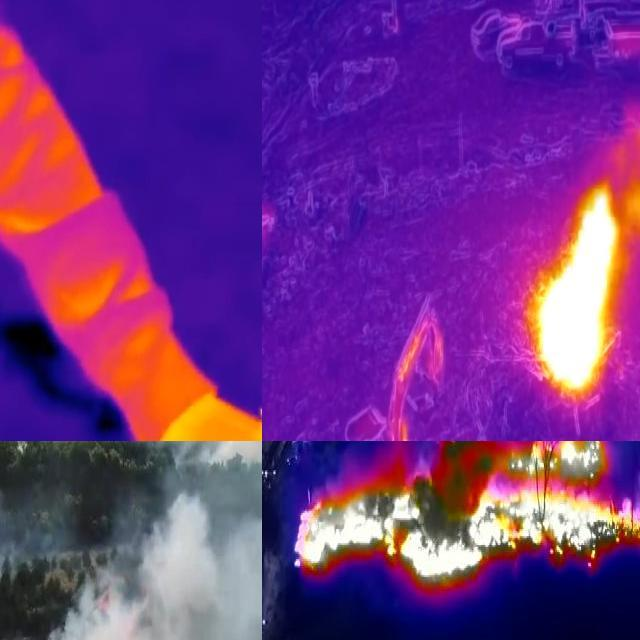fire: (291, 442, 640, 598), (534, 182, 622, 394)
